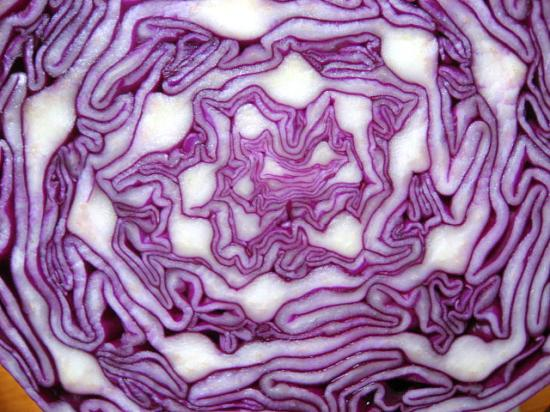cabbage: (1, 0, 548, 410)
